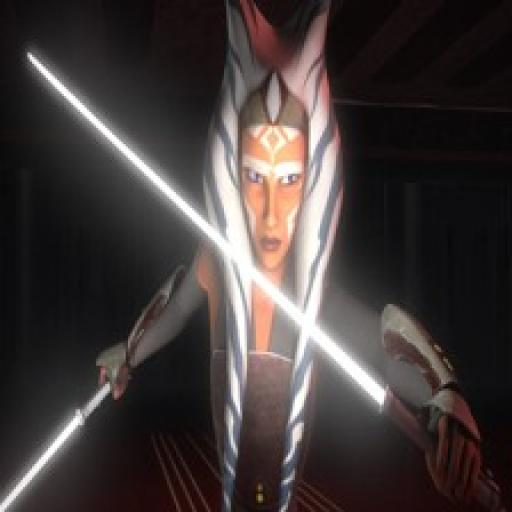human: (66, 61, 511, 512)
lightsaber: (28, 54, 432, 451), (0, 385, 111, 512)
